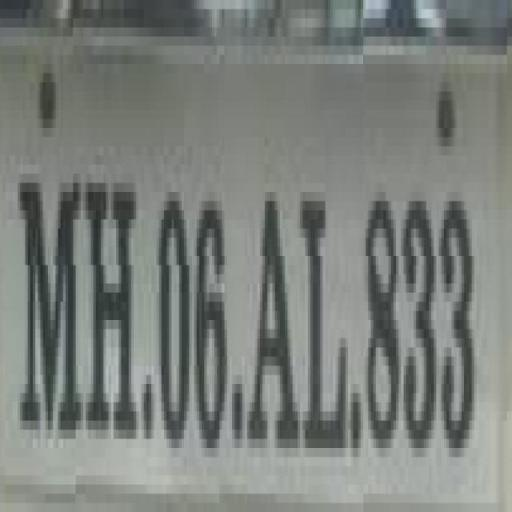number plate: (22, 46, 512, 494)
